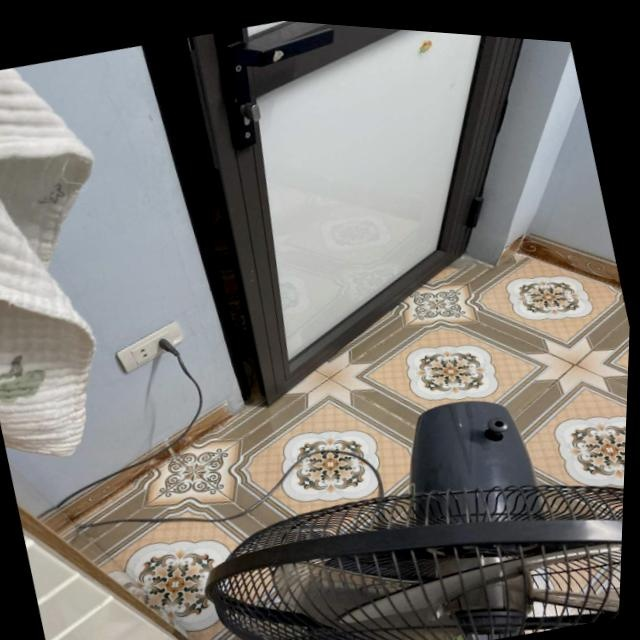outlet: (108, 313, 190, 379)
